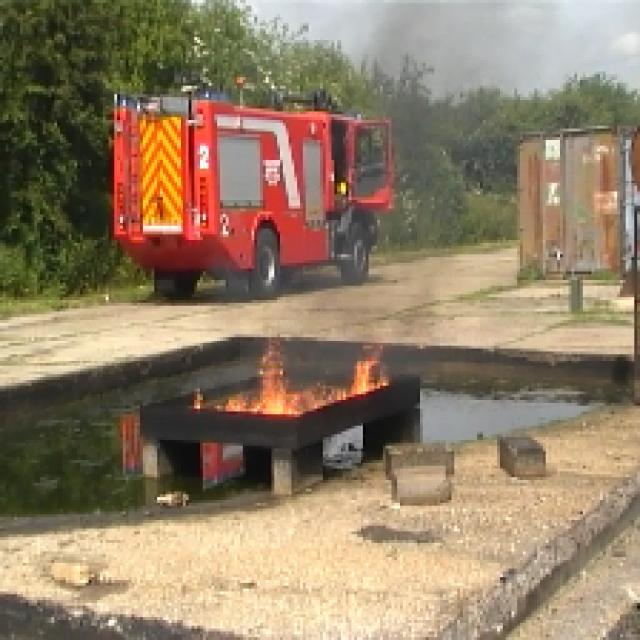fire: (194, 354, 379, 409)
